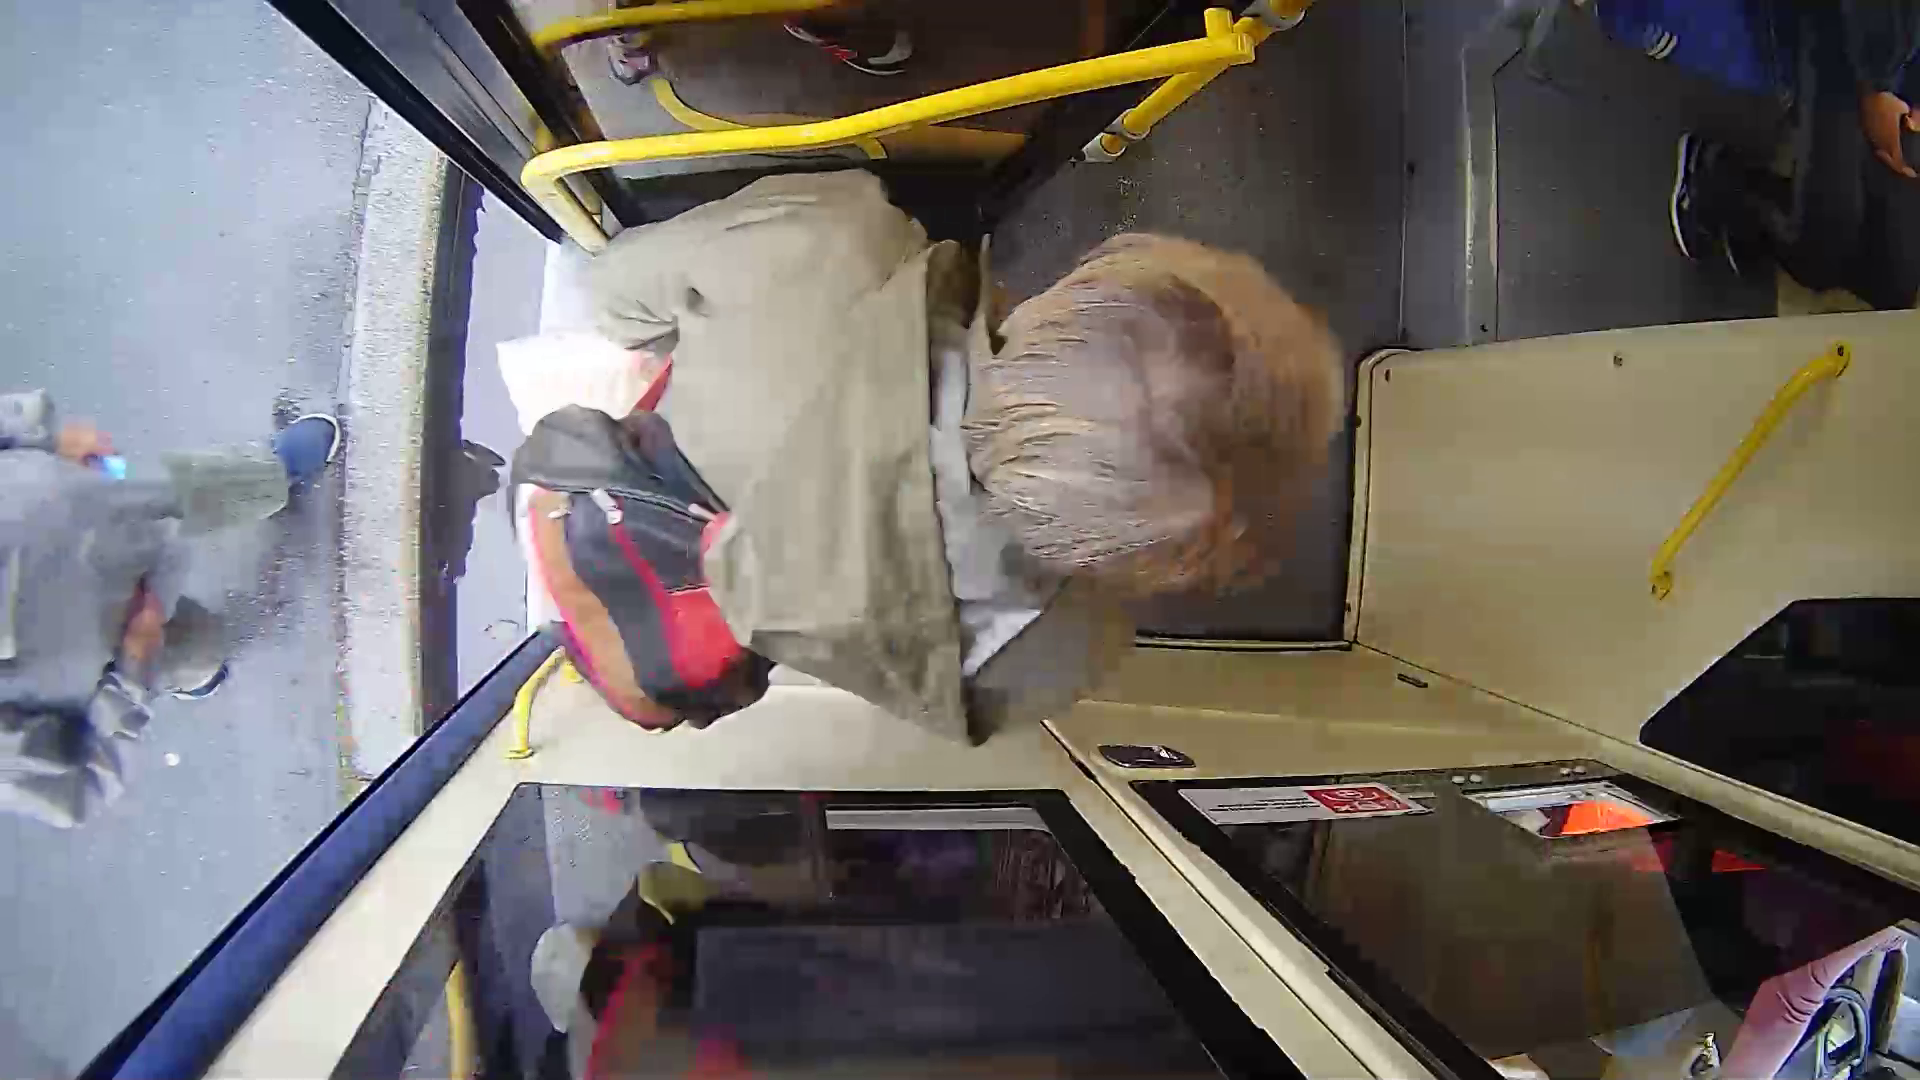person: (502, 122, 1413, 742)
